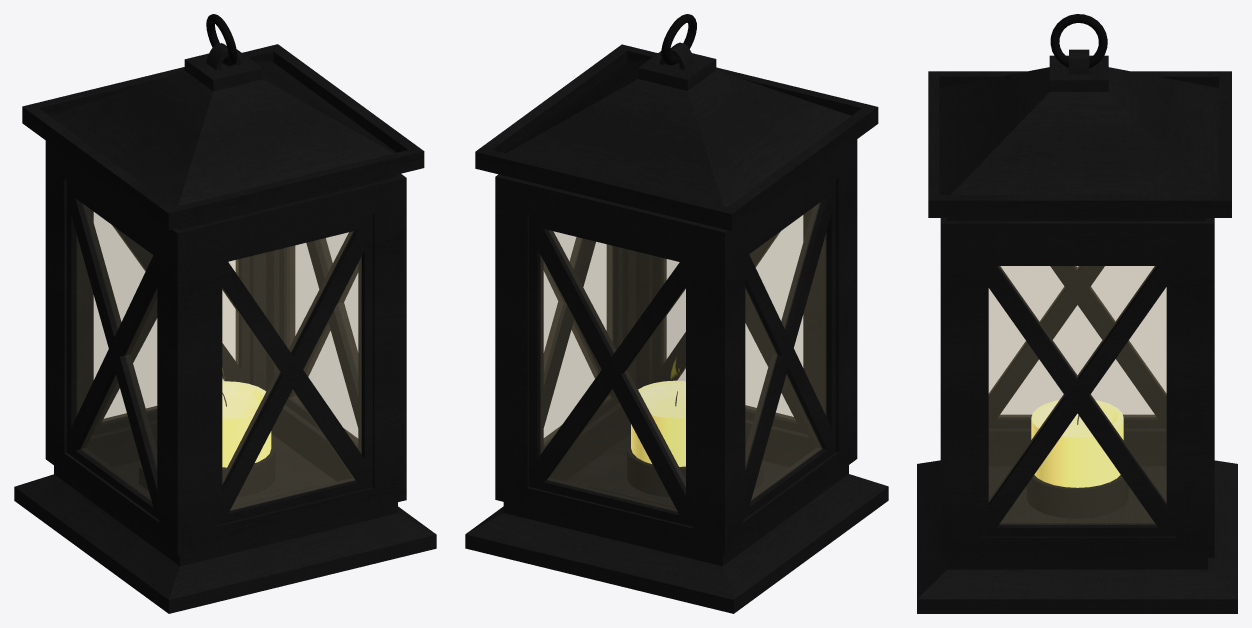
The model's file is lantern.glb.
The picture shows the model from 3 angles, left to right: view 1: azimuth 30°, elevation 25°; view 2: azimuth 150°, elevation 25°; view 3: azimuth 270°, elevation 25°; orthographic projection. The views are drawn at different scales.
Visible parts, largest first — view 1: Material2 (×5); view 2: Material2 (×5); view 3: Material2 (×5).
Part boxes in pixels (box(x1,y1,x2,y2)): Material2 (×5): box(14, 14, 436, 613); Material2 (×5): box(465, 14, 888, 613); Material2 (×5): box(917, 14, 1237, 613).
Bounding box in the file's own units: 197 × 358 × 197.
8 materials, 7 textured.
